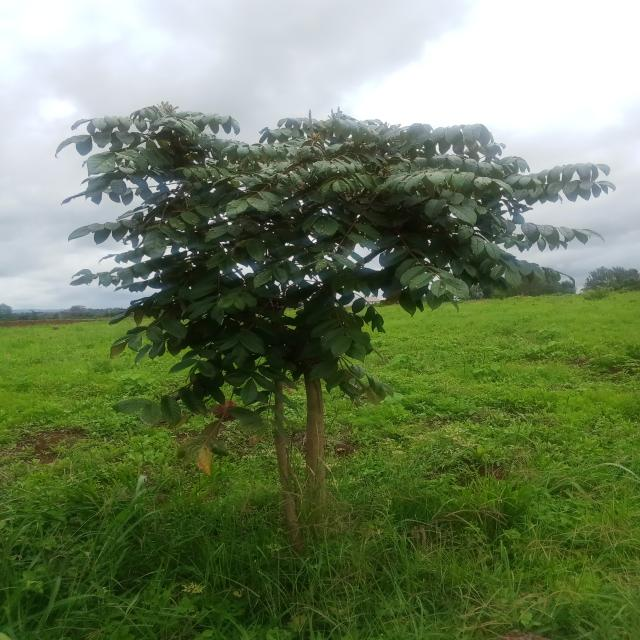Polyscias Kikuyensis: (59, 92, 617, 519)
